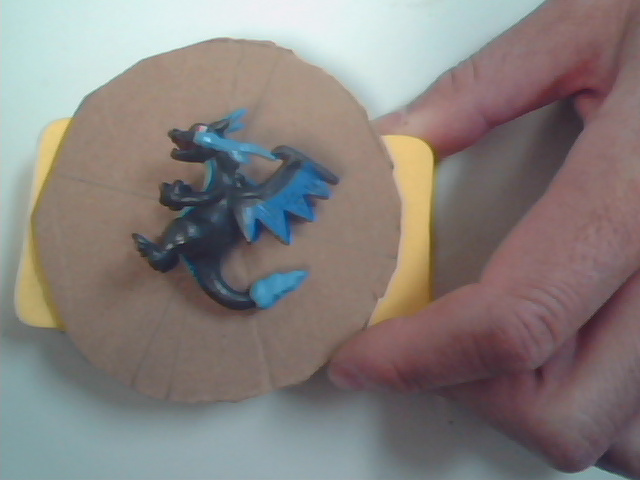charizard: (104, 100, 342, 328)
